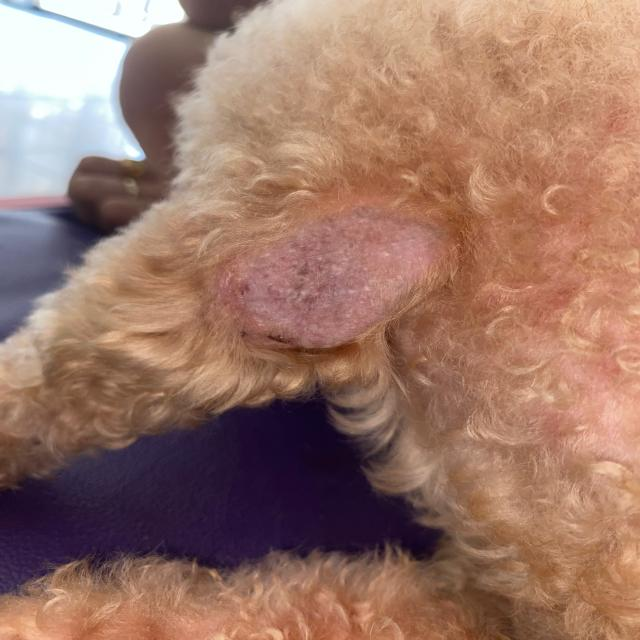ringworm: (224, 155, 489, 365)
